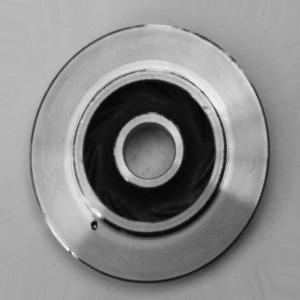crack: (79, 181, 110, 222)
pit: (82, 211, 110, 238)
scratch: (35, 205, 90, 274)
unpolished_casting: (27, 21, 270, 285)
